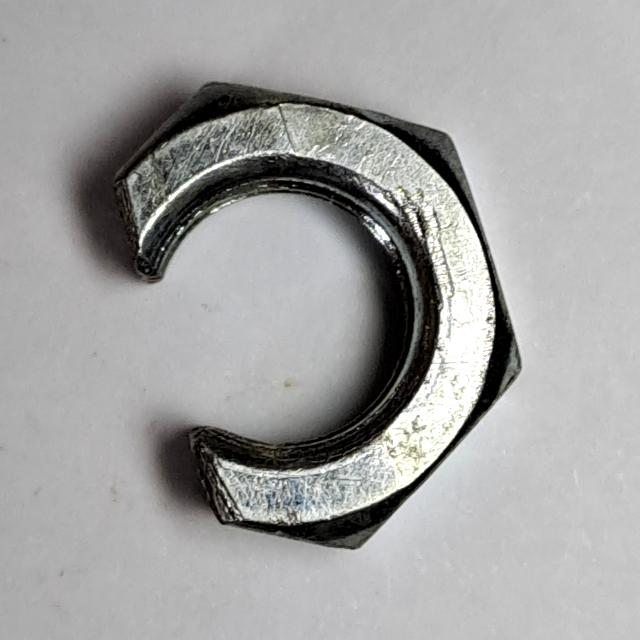Fracture: (104, 72, 533, 562)
